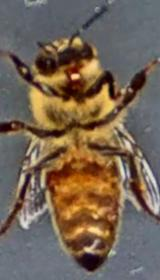varroa_mite: (42, 162, 64, 192)
